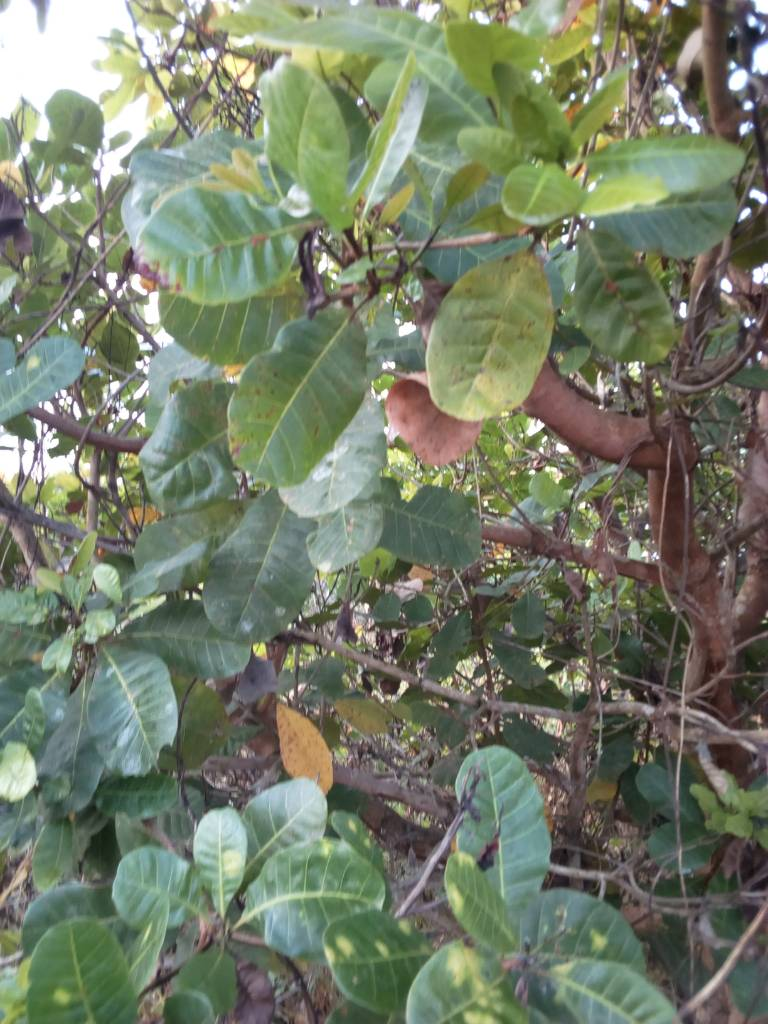Anthracnose: (227, 303, 369, 485), (421, 246, 557, 428), (274, 699, 330, 785)
